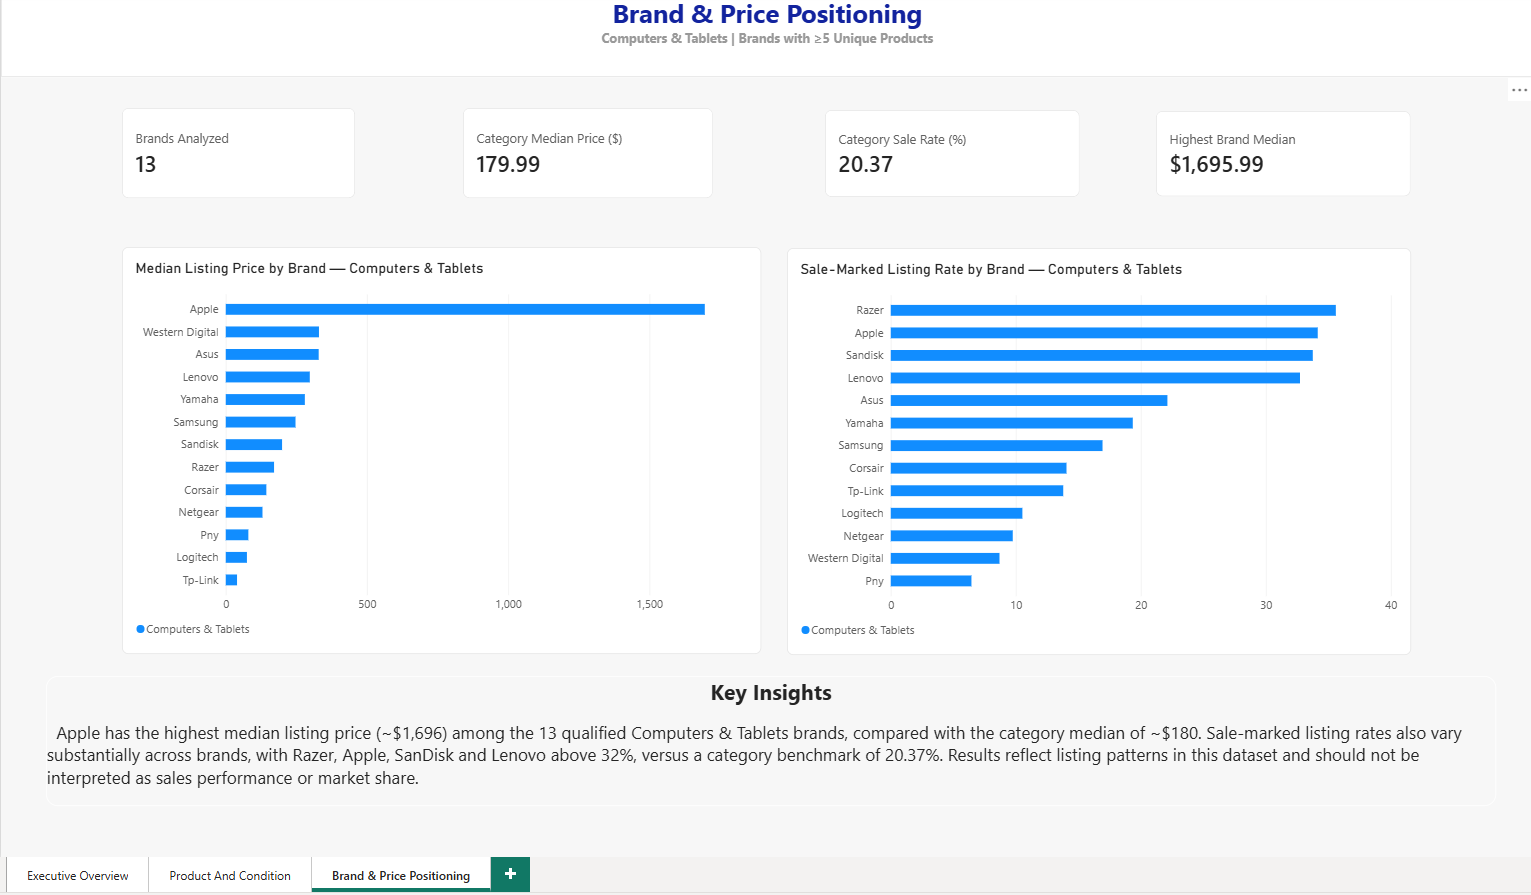

This screenshot's page, from the dashboard's own definition file:
{"tool":"powerbi","page":{"name":"Brand & Price Positioning ","canvas":[1920,1080],"ordinal":2},"visuals":[{"type":"clusteredBarChart","title":"Median Listing Price by Brand — Computers & Tablets","fields":{"Category":["electronics_pricing_clean.brand_clean"],"Series":["electronics_pricing_clean.category_clean"],"Y":["Median(electronics_pricing_clean.price)"]},"box":[152.2,315.1,801,509.7],"z":0,"group":"g2"},{"type":"clusteredBarChart","title":"Sale-Marked Listing Rate by Brand — Computers & Tablets","fields":{"Category":["electronics_pricing_clean.brand_clean"],"Series":["electronics_pricing_clean.category_clean"],"Y":["electronics_pricing_clean.Sale Rate %"]},"box":[985.8,316.4,781.7,509.7],"z":1000,"group":"g2"},{"type":"textbox","box":[0,0,1920,102.5],"z":2000},{"type":"cardVisual","fields":{"Data":["electronics_pricing_clean.Qualified Brands"]},"box":[152.2,141.4,292.2,113.1],"z":3000,"group":"g1"},{"type":"textbox","box":[56.6,853.8,1816.6,162.9],"z":3000},{"type":"group","id":"g1","title":"Group 2","box":[152.2,141.4,1614.6,113.1],"z":4000},{"type":"cardVisual","fields":{"Data":["electronics_pricing_clean.Computer Category Median"]},"box":[579.1,141.4,313.8,113.1],"z":4000,"group":"g1"},{"type":"group","id":"g2","title":"Group 3","box":[152.2,315.1,1614.6,511.7],"z":4001},{"type":"cardVisual","fields":{"Data":["electronics_pricing_clean.Computer Category Sale Rate"]},"box":[1032.9,143.4,319.2,109.1],"z":5000,"group":"g3"},{"type":"cardVisual","fields":{"Data":["electronics_pricing_clean.Highest Brand Median Display"]},"box":[1447.7,144.1,319.2,107.7],"z":6000,"group":"g3"},{"type":"group","id":"g3","title":"Group 1","box":[1032.9,143.4,733.9,109.1],"z":6003,"group":"g1"}]}

Visuals, with their boxes on the page's 1920x1080 design canvas (x1, y1, x2, y2). These are canvas units, not pixel positions in the 1531x895 screenshot, which may show the page scaled, cropped or inside an application window:
"Median Listing Price by Brand — Computers & Tablets" clusteredBarChart: {"left": 152, "top": 315, "right": 953, "bottom": 825}
"Sale-Marked Listing Rate by Brand — Computers & Tablets" clusteredBarChart: {"left": 986, "top": 316, "right": 1768, "bottom": 826}
textbox: {"left": 0, "top": 0, "right": 1920, "bottom": 102}
cardVisual - electronics_pricing_clean.Qualified Brands: {"left": 152, "top": 141, "right": 444, "bottom": 254}
textbox: {"left": 57, "top": 854, "right": 1873, "bottom": 1017}
"Group 2" group: {"left": 152, "top": 141, "right": 1767, "bottom": 254}
cardVisual - electronics_pricing_clean.Computer Category Median: {"left": 579, "top": 141, "right": 893, "bottom": 254}
"Group 3" group: {"left": 152, "top": 315, "right": 1767, "bottom": 827}
cardVisual - electronics_pricing_clean.Computer Category Sale Rate: {"left": 1033, "top": 143, "right": 1352, "bottom": 252}
cardVisual - electronics_pricing_clean.Highest Brand Median Display: {"left": 1448, "top": 144, "right": 1767, "bottom": 252}
"Group 1" group: {"left": 1033, "top": 143, "right": 1767, "bottom": 252}
